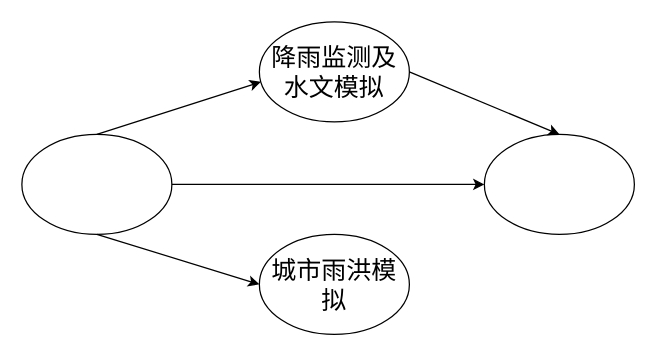
Image size: 656x356. Some labels were removed from this diagram. The centre of each missing label's shape, as x and y in pixels:
矫正湿天线衰减: the point at 96,183
降雨反演可视化系统: the point at 558,183
